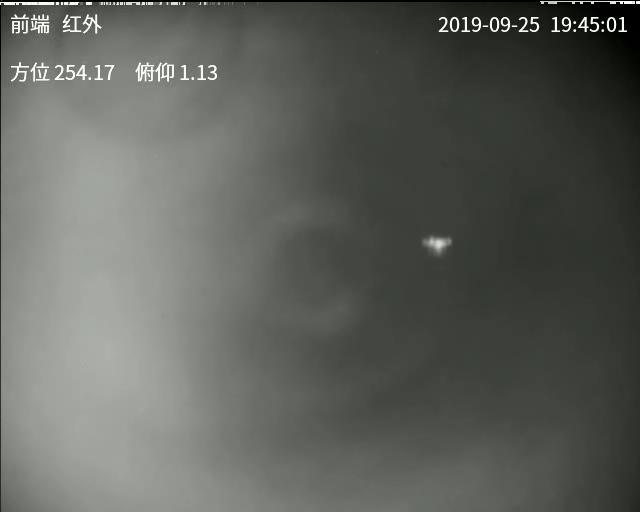uav: (422, 230, 455, 253)
